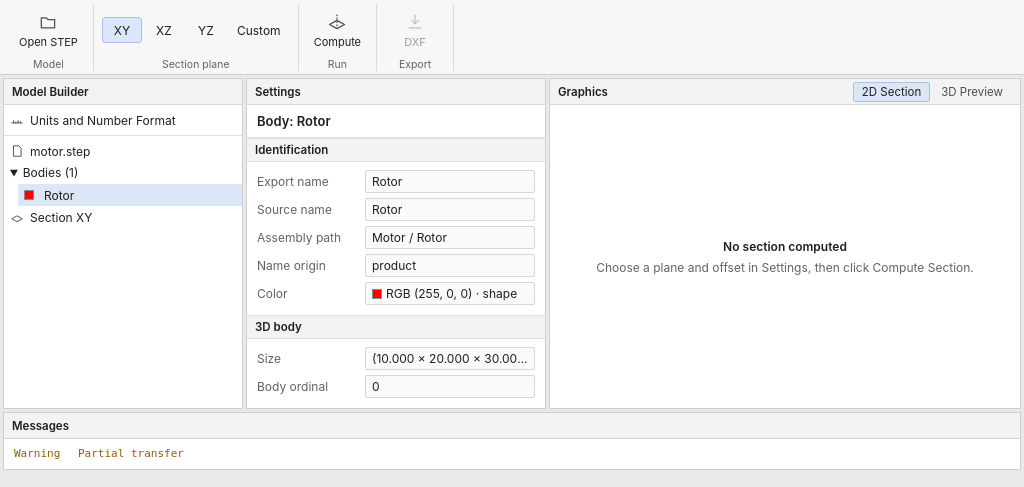
Test case: STEP workspace › shows section controls in Settings and keeps the body selection for alignment
Click the button "Section XY" at [123, 217], box [4, 206, 242, 228]
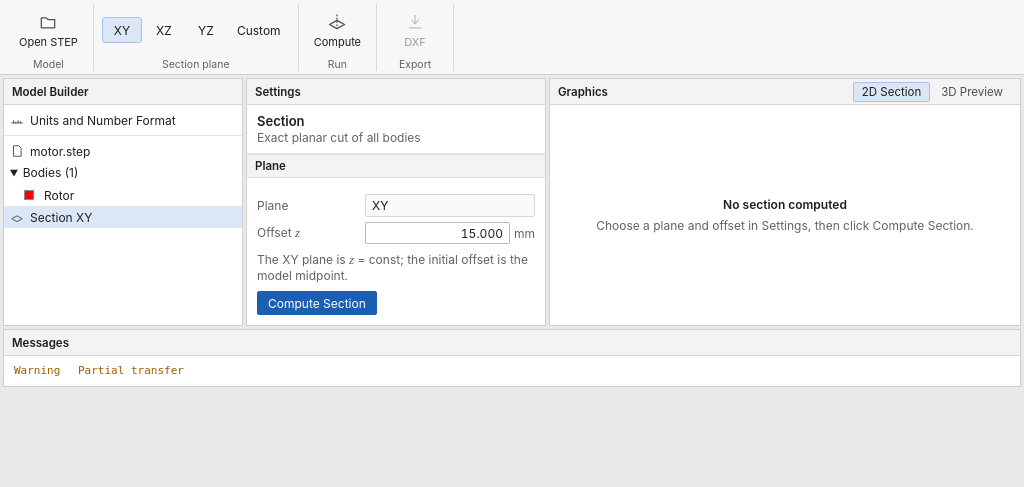
Check: the element "Graphics" shows "No section computed", box [723, 197, 847, 212]
Check: the element "Settings" shows "Exact planar cut of all bodies", box [257, 130, 421, 145]
Check: the button "Compute Section" is shown, box [257, 291, 377, 315]
